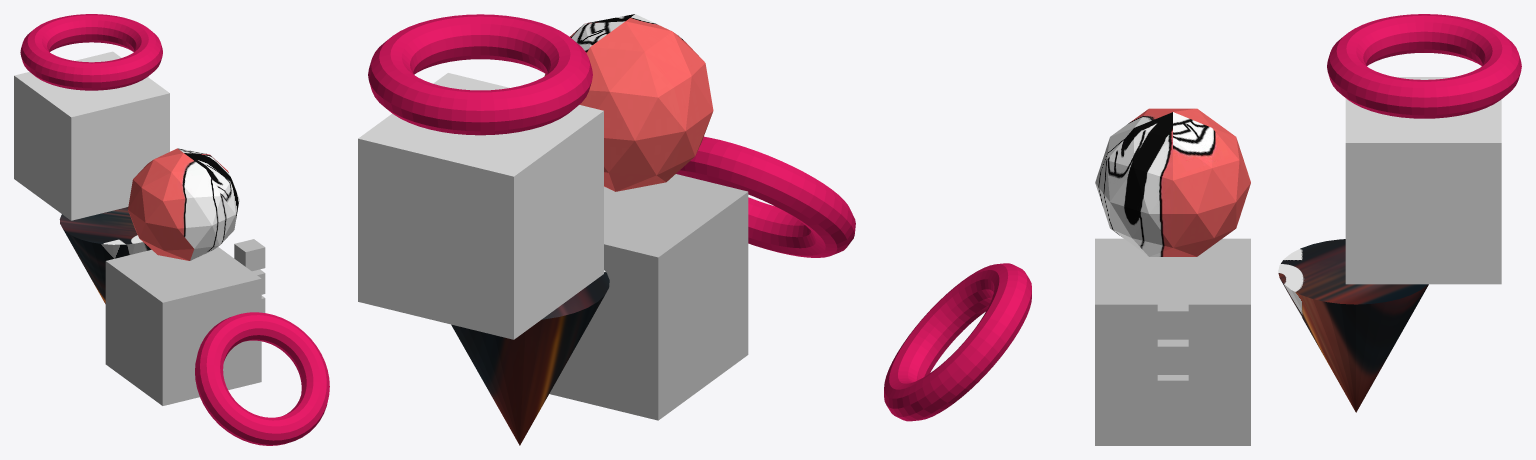
The picture shows the model from 3 angles, left to right: view 1: azimuth 30°, elevation 25°; view 2: azimuth 150°, elevation 25°; view 3: azimuth 270°, elevation 25°; orthographic projection. The views are drawn at different scales.
Parts seen in each view (by area): view 1: Cube, car_paint, Torus, Icosphere, car_paint_Torus, Cone, running_lights; view 2: car_paint, Cube, car_paint_Torus, Icosphere, Torus, Cone; view 3: Cube, car_paint, Icosphere, car_paint_Torus, Torus, Cone, running_lights, head_lights, tail_lights.
Boxes of the visible parts, <box> form: Cube: <box>105,247,261,405</box>; car_paint: <box>14,51,169,220</box>; Torus: <box>195,312,329,445</box>; Icosphere: <box>128,148,239,260</box>; car_paint_Torus: <box>20,14,162,90</box>; Cone: <box>59,207,151,303</box>; running_lights: <box>234,239,265,271</box>; car_paint: <box>358,73,603,339</box>; Cube: <box>549,174,748,420</box>; car_paint_Torus: <box>368,14,592,135</box>; Icosphere: <box>544,14,713,191</box>; Torus: <box>676,136,855,257</box>; Cone: <box>451,270,609,445</box>; Cube: <box>1095,238,1250,445</box>; car_paint: <box>1345,77,1501,284</box>; Icosphere: <box>1095,108,1250,256</box>; car_paint_Torus: <box>1327,14,1521,118</box>; Torus: <box>884,263,1031,421</box>; Cone: <box>1278,239,1428,412</box>; running_lights: <box>1157,298,1188,339</box>; head_lights: <box>1157,339,1188,374</box>; tail_lights: <box>1157,375,1188,408</box>.
Bounding box in the file's own units: 279 × 515 × 818.
